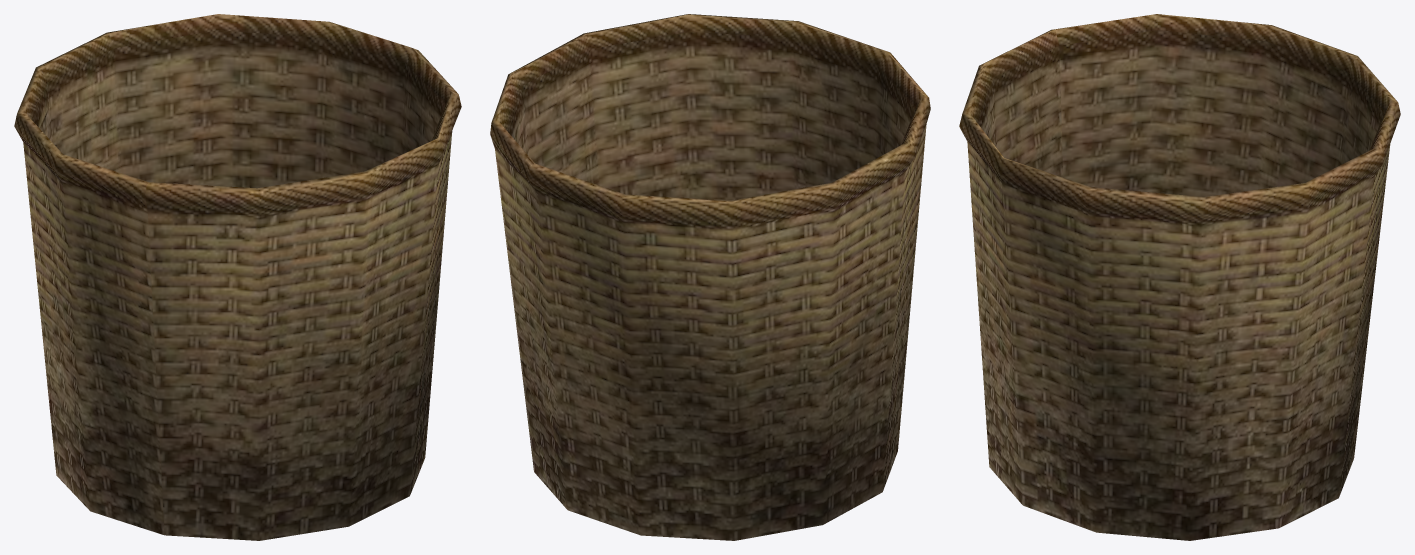
File: resourcebasket-base.glb
The picture shows the model from 3 angles, left to right: view 1: azimuth 30°, elevation 25°; view 2: azimuth 150°, elevation 25°; view 3: azimuth 270°, elevation 25°; orthographic projection.
Size of the model in its own units: 0.456 by 0.4144 by 0.4533.
1 material, 1 textured.
